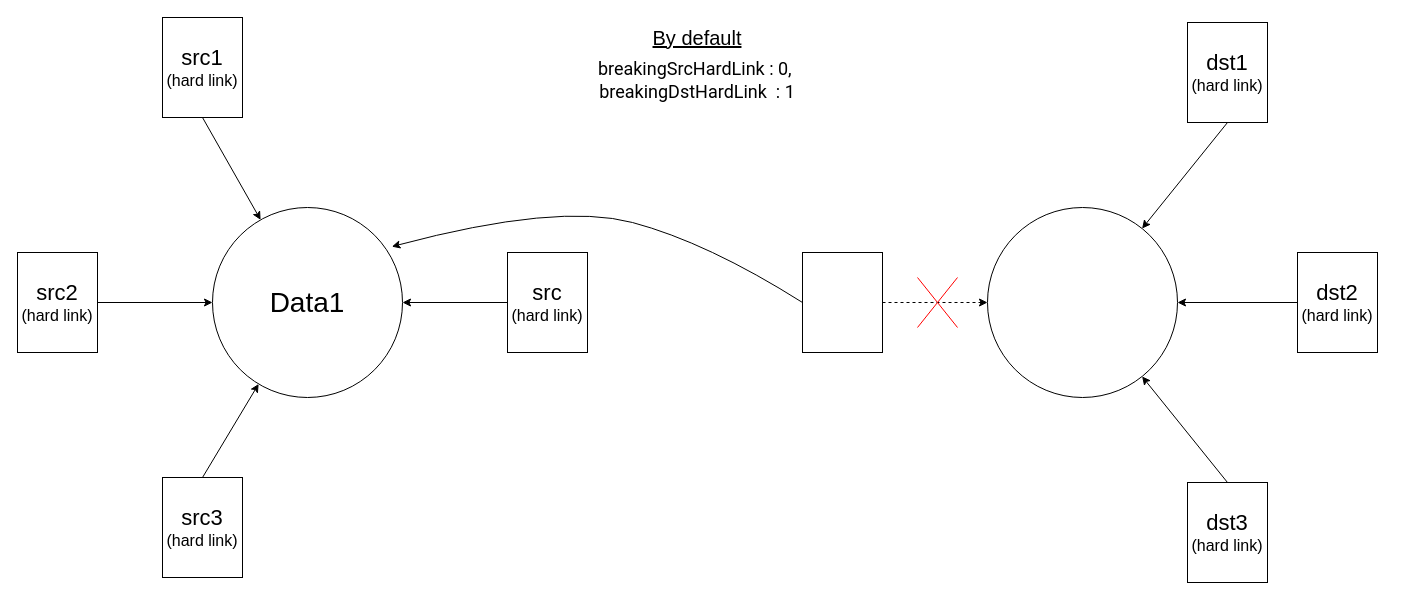
Image size: 1403x600. Some labels were removed from this diagram. The shapes that lost their labels are listed below. From the top down, each one's centre as x and y in pixels, then its label:
At [842,302]: "dst (hard link)".
At [1082,302]: "Data2".
